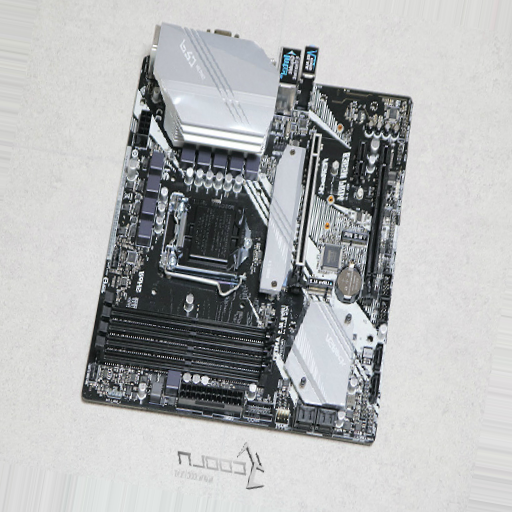CPU: (159, 167, 255, 293)
GPU: (360, 142, 394, 294), (291, 131, 323, 284)
MOTHERBOARD: (80, 25, 409, 447)
RAM: (88, 291, 274, 388)
